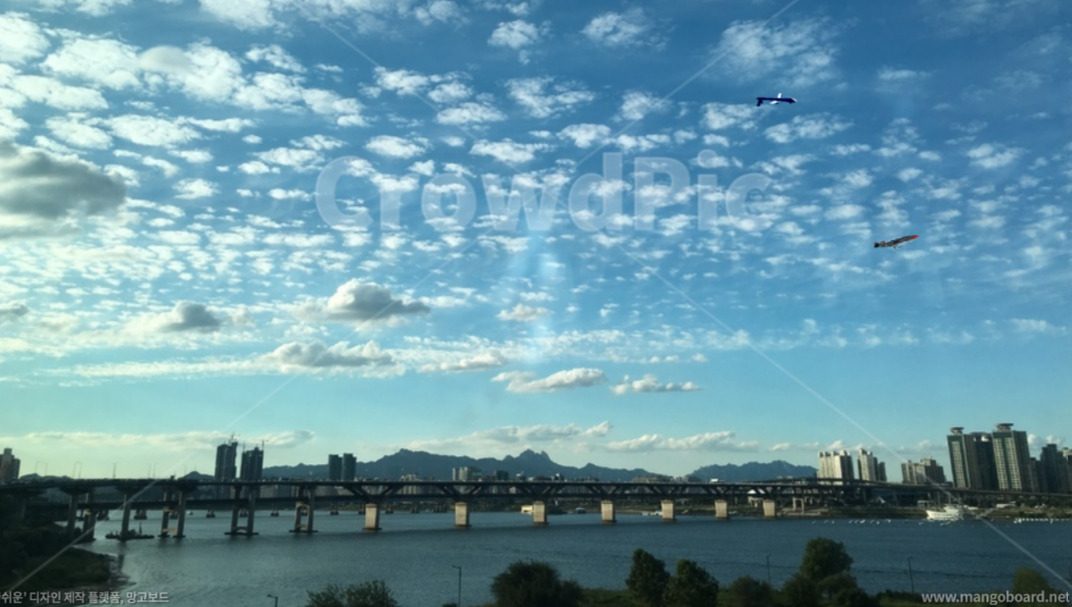military drone: (874, 233, 919, 249), (755, 92, 797, 107)
